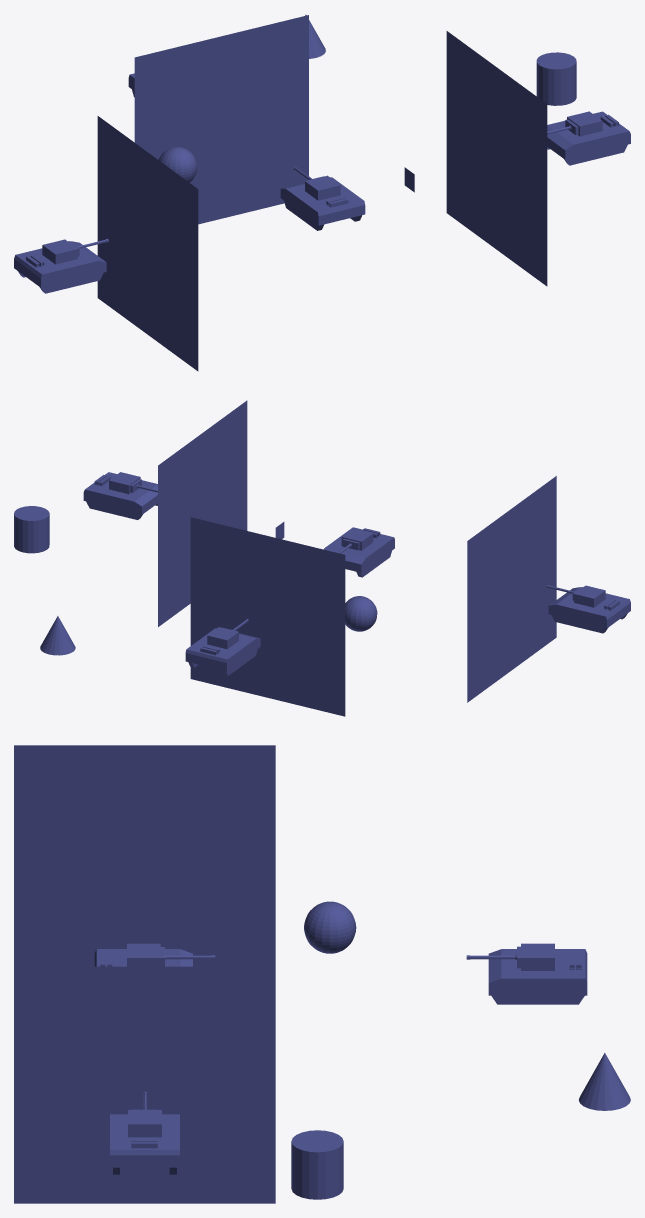
The picture shows the model from 3 angles, top to bottom: view 1: azimuth 30°, elevation 25°; view 2: azimuth 150°, elevation 25°; view 3: azimuth 270°, elevation 25°; orthographic projection. The views are drawn at different scales.
Visible parts, largest first — view 1: bsp_plano2, bsp_plano1, bsp_plano3, BaseTanke (×3), BaseCanon (×3), Cylinder1, Sphere1; view 2: bsp_plano2, bsp_plano3, bsp_plano1, BaseTanke (×4), BaseCanon (×4), Cylinder1, Sphere1, Cone1; view 3: bsp_plano1, bsp_plano3, BaseTanke (×3), Cylinder1, BaseCanon (×3), Sphere1, Cone1.
Boxes of the visible parts, x1,y1,x2,y2 form: bsp_plano2: (134,15,308,224); bsp_plano1: (446,31,547,286); bsp_plano3: (97,116,198,371); BaseTanke (×3): (14,111,630,293); BaseCanon (×3): (42,111,602,264); Cylinder1: (536,52,576,105); Sphere1: (158,147,197,182); bsp_plano2: (190,517,345,716); bsp_plano3: (467,476,556,702); bsp_plano1: (158,400,247,626); BaseTanke (×4): (83,472,630,675); BaseCanon (×4): (109,472,605,649); Cylinder1: (14,506,49,553); Sphere1: (345,596,377,631); Cone1: (40,616,75,655); bsp_plano1: (14,966,275,1203); bsp_plano3: (14,745,275,966); BaseTanke (×3): (94,949,587,1174); Cylinder1: (291,1130,343,1199); BaseCanon (×3): (127,943,554,1137); Sphere1: (304,901,356,953); Cone1: (579,1053,630,1110).
Size of the model in its own units: 35.15 by 10 by 23.59.
